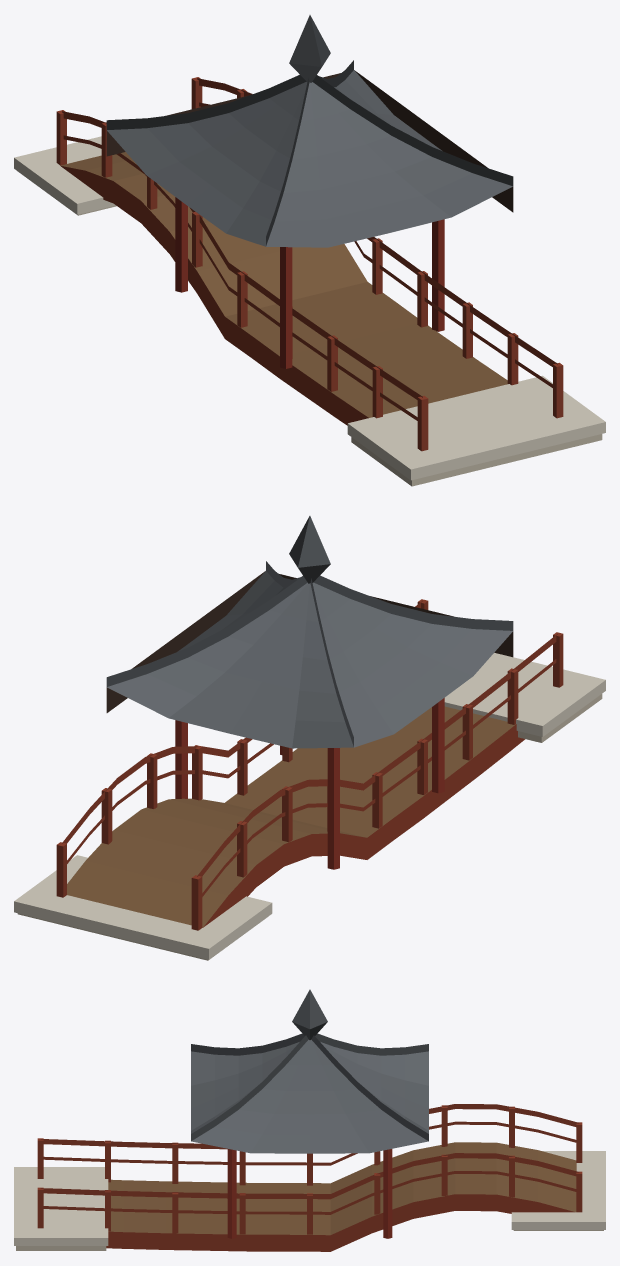
3 views of the same model, one above another, from view 1: azimuth 30°, elevation 25°; view 2: azimuth 150°, elevation 25°; view 3: azimuth 270°, elevation 25° (orthographic). The views are drawn at different scales.
Parts seen in each view (by area): view 1: YM03-23 棕亭桥 Zongting Qiao; view 2: YM03-23 棕亭桥 Zongting Qiao; view 3: YM03-23 棕亭桥 Zongting Qiao.
Part boxes in pixels (bbox=[...]): YM03-23 棕亭桥 Zongting Qiao: bbox=[14, 15, 605, 486]; YM03-23 棕亭桥 Zongting Qiao: bbox=[14, 516, 605, 960]; YM03-23 棕亭桥 Zongting Qiao: bbox=[14, 989, 605, 1251].
Bounding box in the file's own units: 5.2 × 6.38 × 14.45.
